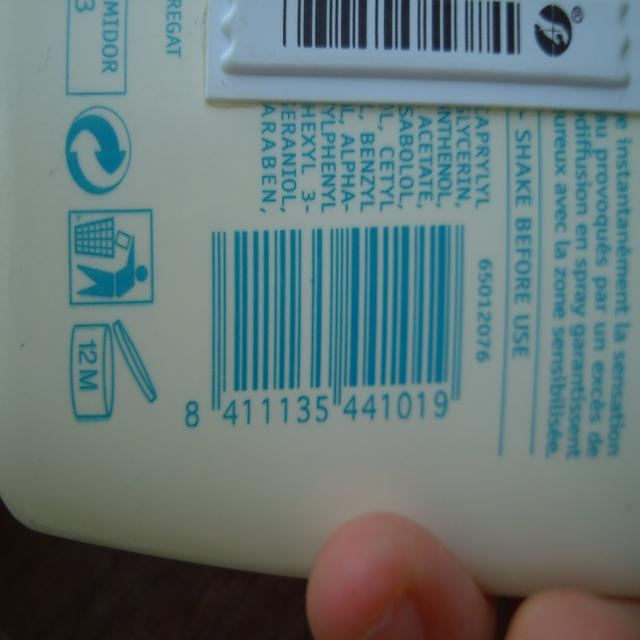barcode: (184, 223, 465, 440)
